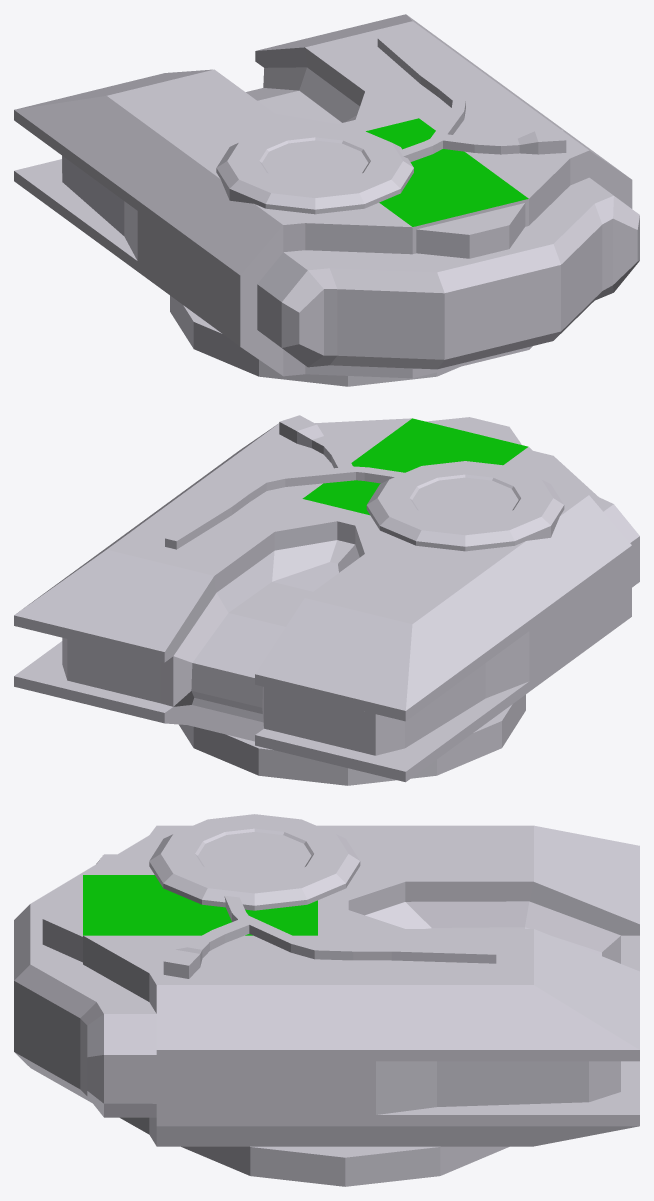
The model's file is hardpoint.dev.lowPro.fbx.
The picture shows the model from 3 angles, top to bottom: view 1: azimuth 30°, elevation 25°; view 2: azimuth 150°, elevation 25°; view 3: azimuth 270°, elevation 25°; orthographic projection. The views are drawn at different scales.
Visible parts, largest first — view 1: hardpoint.dev.lowPro; view 2: hardpoint.dev.lowPro; view 3: hardpoint.dev.lowPro.
Boxes of the visible parts, bbox=[...] form: hardpoint.dev.lowPro: bbox=[14, 14, 639, 386]; hardpoint.dev.lowPro: bbox=[14, 415, 639, 785]; hardpoint.dev.lowPro: bbox=[14, 814, 639, 1186].
Bounding box in the file's own units: 1.51 × 0.7408 × 1.96.
